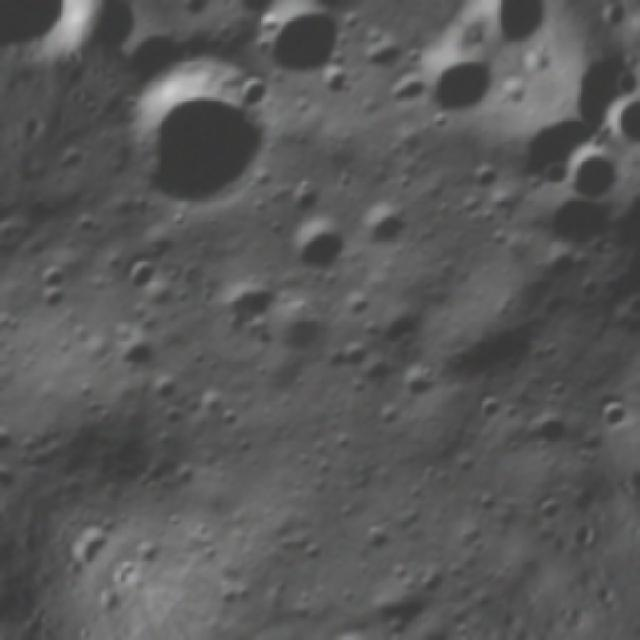crater: (86, 16, 306, 238), (248, 0, 369, 100), (527, 118, 638, 227), (408, 30, 509, 138), (199, 262, 281, 342), (263, 285, 342, 367), (282, 210, 355, 282), (21, 254, 85, 318), (323, 324, 383, 385), (391, 347, 451, 407), (359, 199, 419, 258), (118, 244, 173, 302), (519, 479, 573, 535), (585, 386, 637, 439), (464, 384, 513, 436), (226, 0, 286, 28), (316, 620, 387, 640), (0, 416, 17, 464), (635, 358, 640, 408)
